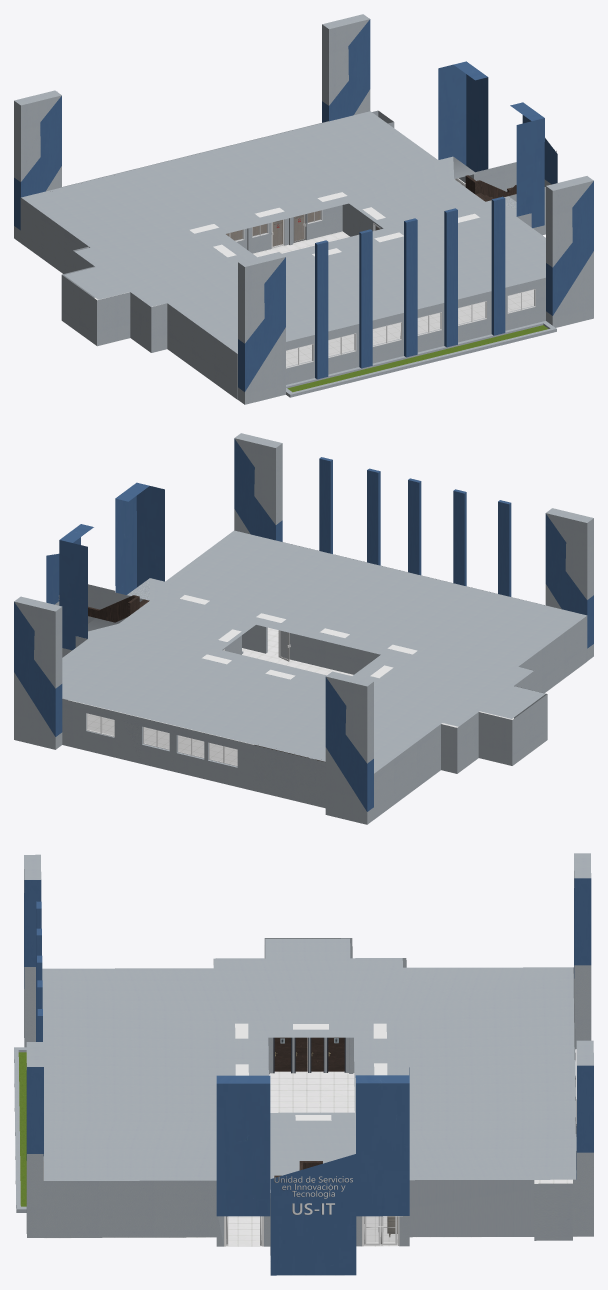
Rendered from USIT-PBOP.glb.
The picture shows the model from 3 angles, top to bottom: view 1: azimuth 30°, elevation 25°; view 2: azimuth 150°, elevation 25°; view 3: azimuth 270°, elevation 25°; orthographic projection. The views are drawn at different scales.
Parts seen in each view (by area): view 1: Paredes_PB, Entrada_USIT, PuertaOficina, Piso_PB, Marcos_PB, Tierrita, Madera_Escritorio; view 2: Paredes_PB, Entrada_USIT, Piso_PB, PuertaOficina, Marcos_PB, Madera_Escritorio; view 3: Paredes_PB, Entrada_USIT, Piso_PB, Madera_Escritorio, Marcos_PB, Tierrita, PuertaOficina.
Boxes of the visible parts, box(x1,y1,x2,y2) form: Paredes_PB: box(14, 14, 593, 404); Entrada_USIT: box(14, 19, 593, 391); PuertaOficina: box(226, 210, 534, 367); Piso_PB: box(26, 231, 544, 398); Marcos_PB: box(189, 178, 535, 368); Tierrita: box(287, 325, 548, 392); Madera_Escritorio: box(465, 175, 516, 201); Paredes_PB: box(14, 433, 593, 824); Entrada_USIT: box(14, 438, 593, 811); Piso_PB: box(64, 627, 584, 809); PuertaOficina: box(87, 631, 287, 765); Marcos_PB: box(86, 595, 417, 766); Madera_Escritorio: box(88, 595, 149, 622); Paredes_PB: box(14, 853, 593, 1255); Entrada_USIT: box(24, 878, 593, 1275); Piso_PB: box(44, 1038, 576, 1275); Madera_Escritorio: box(274, 1037, 344, 1177); Marcos_PB: box(43, 1023, 399, 1246); Tierrita: box(18, 1052, 26, 1206); PuertaOficina: box(366, 1216, 394, 1242).
Size of the model in its own units: 0.3464 by 0.0986 by 0.3023.
Materials: 16 (13 with a texture image).
